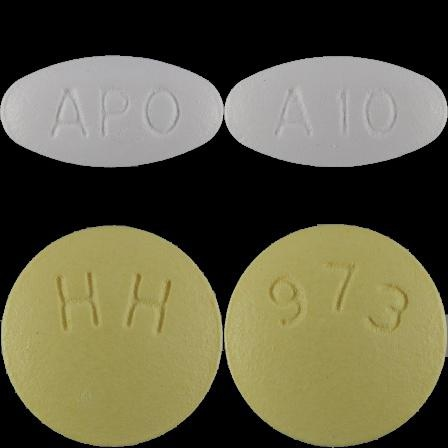63629-4796: (0, 0, 224, 224)
